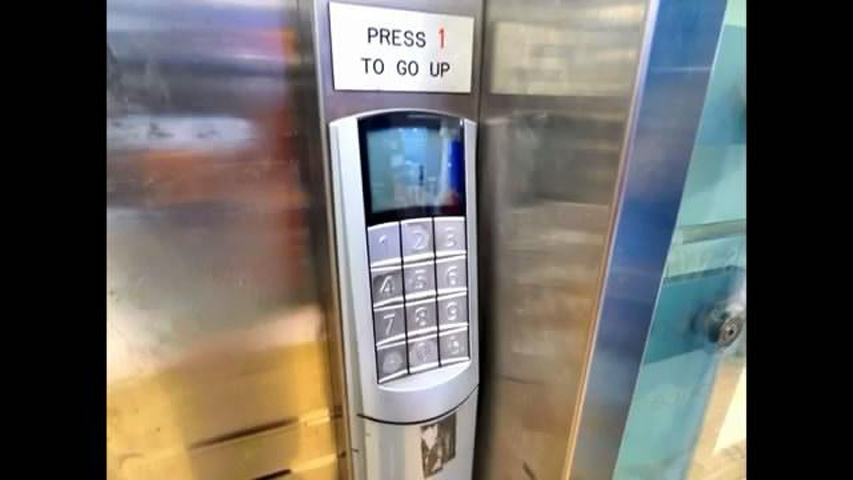1: (362, 220, 402, 269)
2: (397, 216, 437, 265)
3: (430, 214, 469, 260)
4: (367, 263, 406, 310)
5: (400, 258, 439, 305)
6: (431, 253, 470, 300)
7: (369, 301, 408, 348)
8: (401, 294, 440, 341)
9: (433, 289, 471, 334)
blur: (370, 337, 409, 384), (404, 330, 442, 375), (436, 324, 473, 368)
led: (350, 108, 470, 219)
